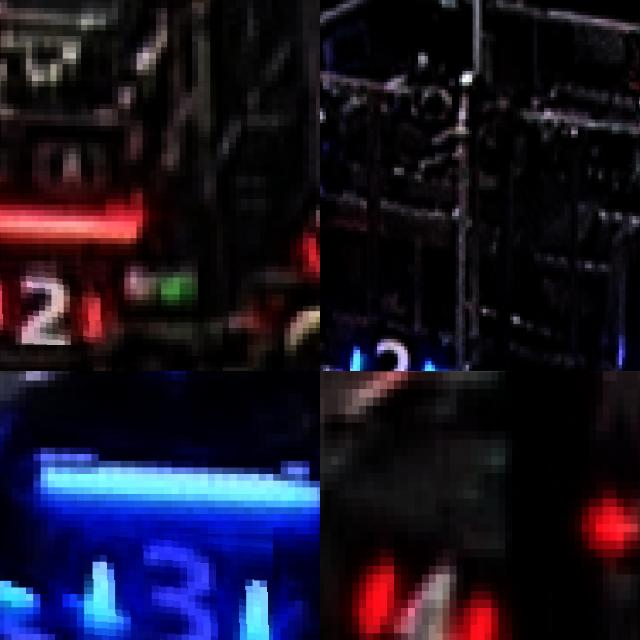B2: (336, 327, 445, 371)
B3: (84, 527, 273, 640)
R2: (0, 261, 105, 345)
R4: (352, 540, 505, 640)
